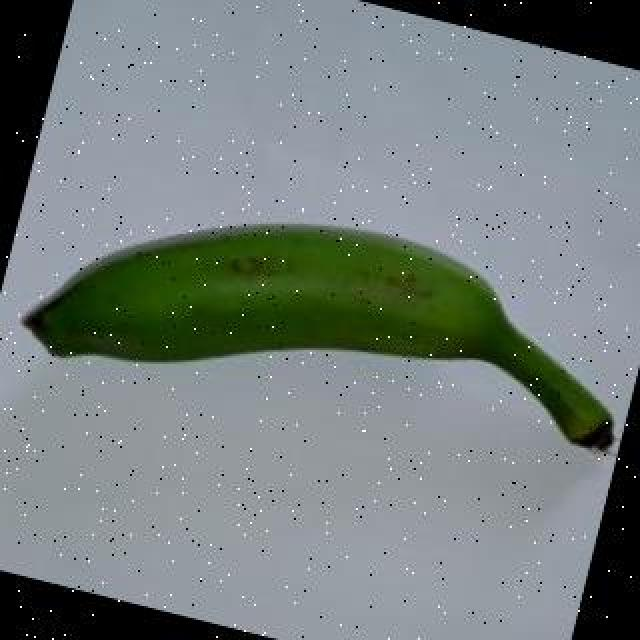Unripe: (26, 222, 617, 454)
